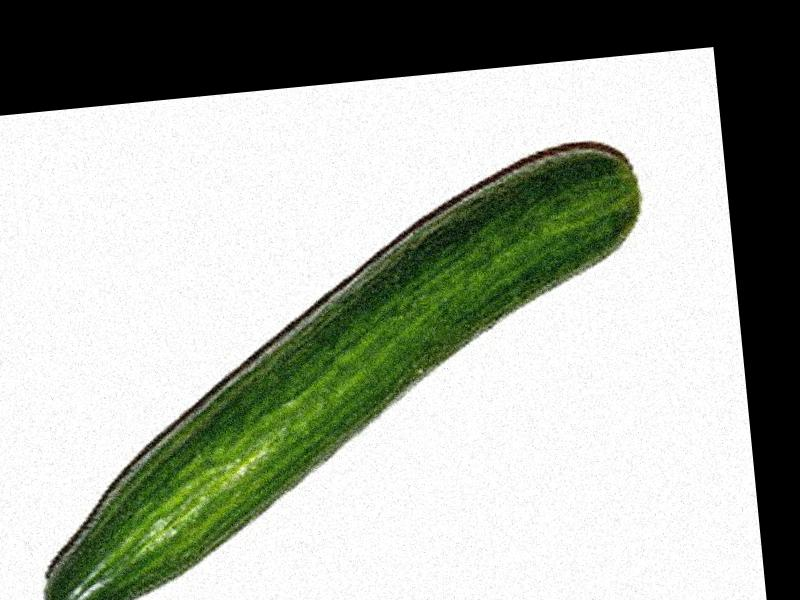Cucumber: (6, 139, 676, 600)
